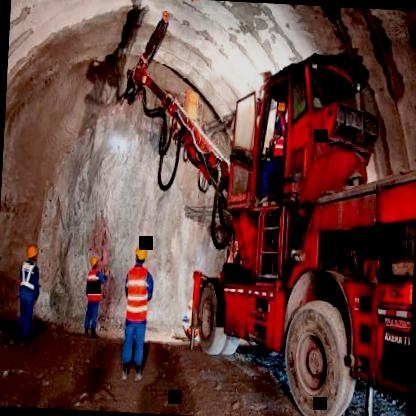helmet: (132, 239, 154, 274), (274, 94, 288, 122), (26, 239, 38, 268), (88, 255, 102, 274)
